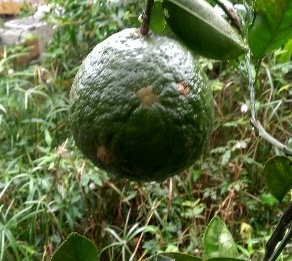Cam: (62, 24, 218, 182)
